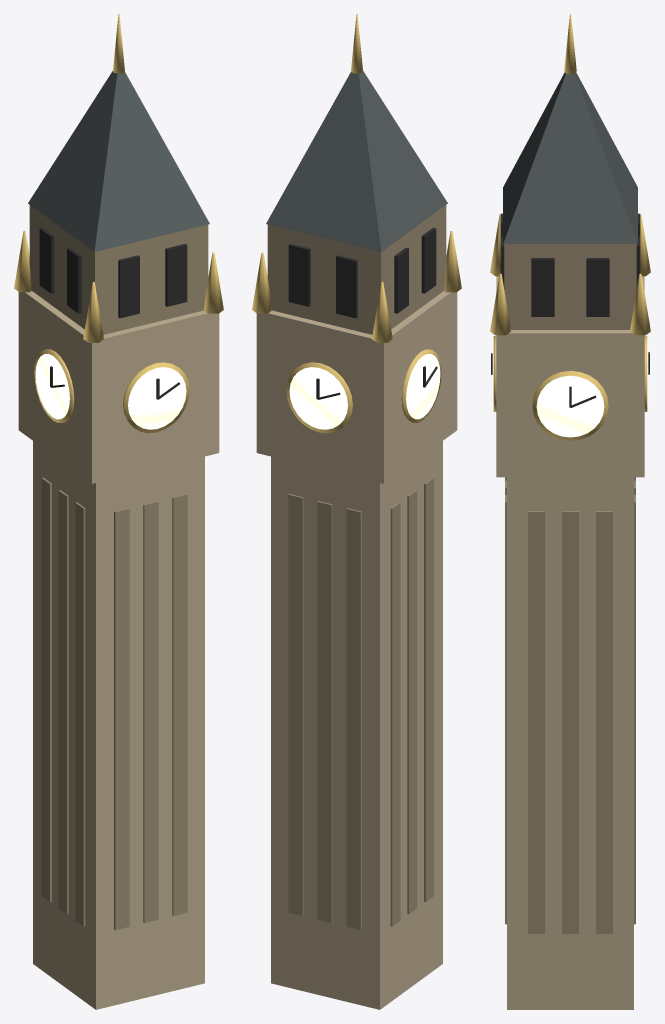
The model's file is big-ben.glb.
3 renders of one model, left to right at view 1: azimuth 30°, elevation 25°; view 2: azimuth 150°, elevation 25°; view 3: azimuth 270°, elevation 25°, orthographic.
Parts seen in each view (by area): view 1: big-ben_mesh; view 2: big-ben_mesh; view 3: big-ben_mesh.
Part boxes in pixels (x1,y1,x2,y2): big-ben_mesh: (14, 14, 223, 1009); big-ben_mesh: (252, 14, 461, 1009); big-ben_mesh: (490, 14, 650, 1009).
Bounding box in the file's own units: 15.05 × 101 × 15.2.
